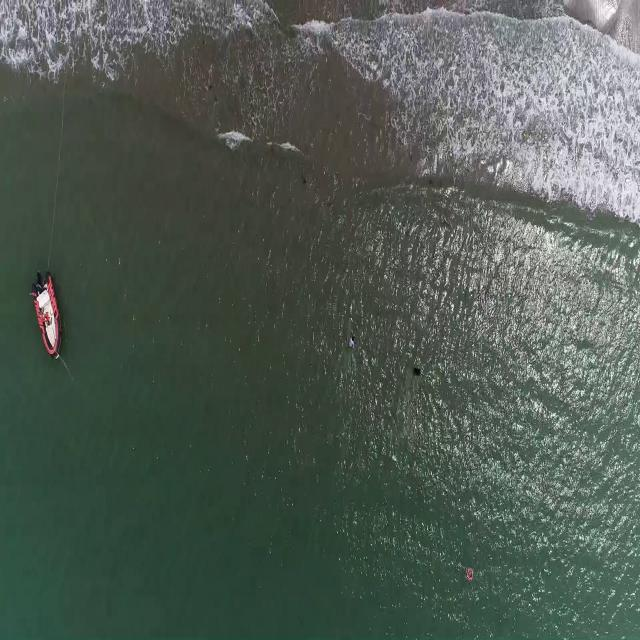boat: (32, 271, 62, 360)
life_buoy: (466, 566, 475, 581)
person: (348, 328, 360, 349), (411, 360, 422, 379)
